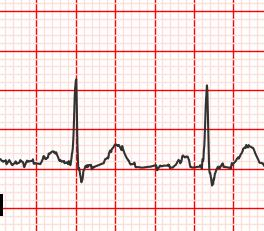ST Depression: (62, 153, 97, 186)
